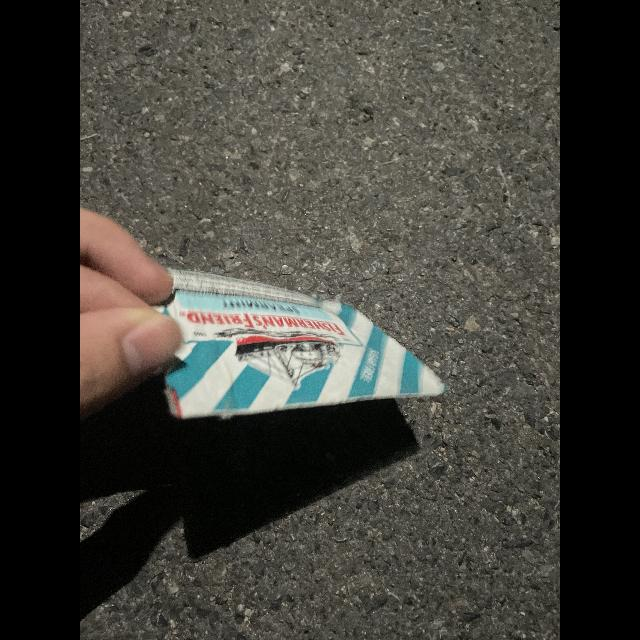snack_bag: (126, 256, 458, 418)
